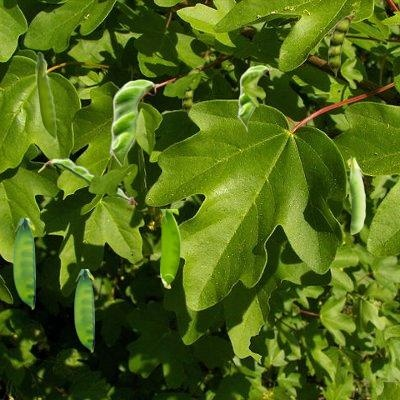pea: (38, 158, 136, 203), (109, 79, 158, 165), (237, 65, 271, 131), (35, 51, 56, 141), (13, 218, 34, 308), (74, 269, 93, 351), (328, 14, 353, 76), (160, 209, 179, 287), (346, 155, 364, 233), (182, 65, 202, 115)
